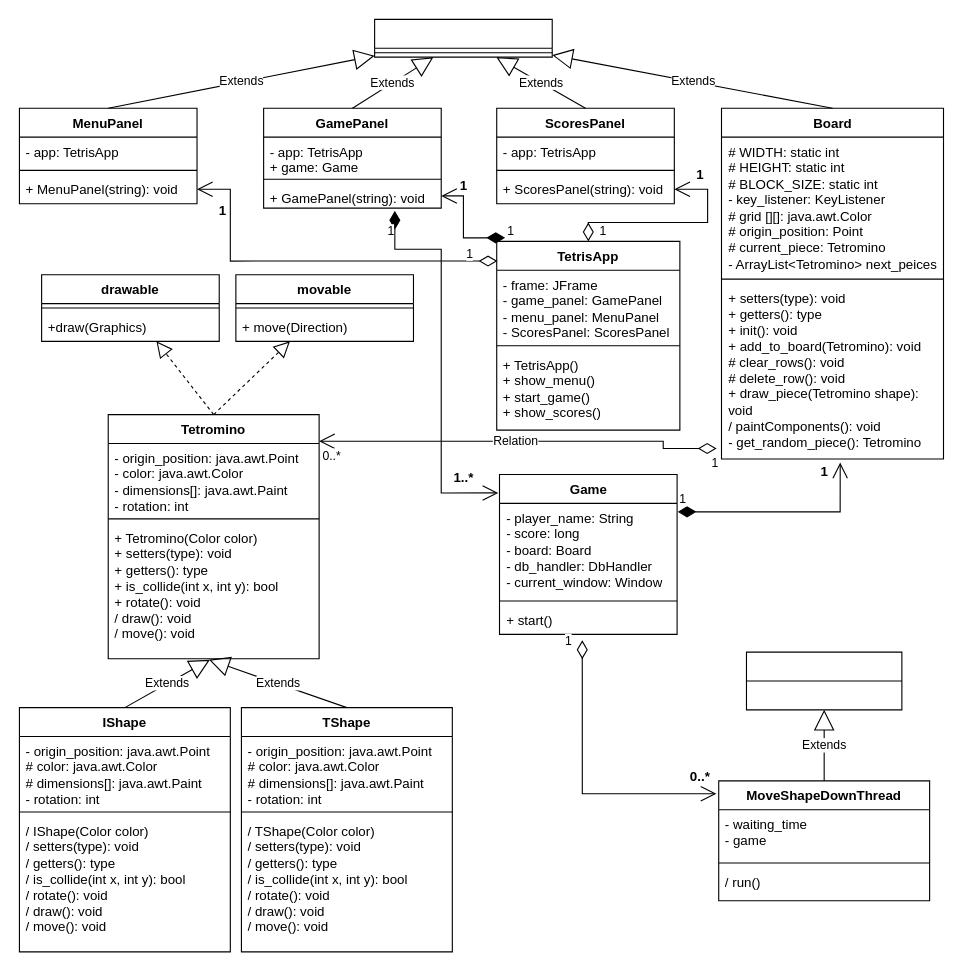
Image size: 963x975. Some labels were removed from this diagram. The centre of each missing label's shape, as x and y in pixels:
"JPanel" goes at (x=463, y=37).
"Thread" goes at (x=823, y=680).
